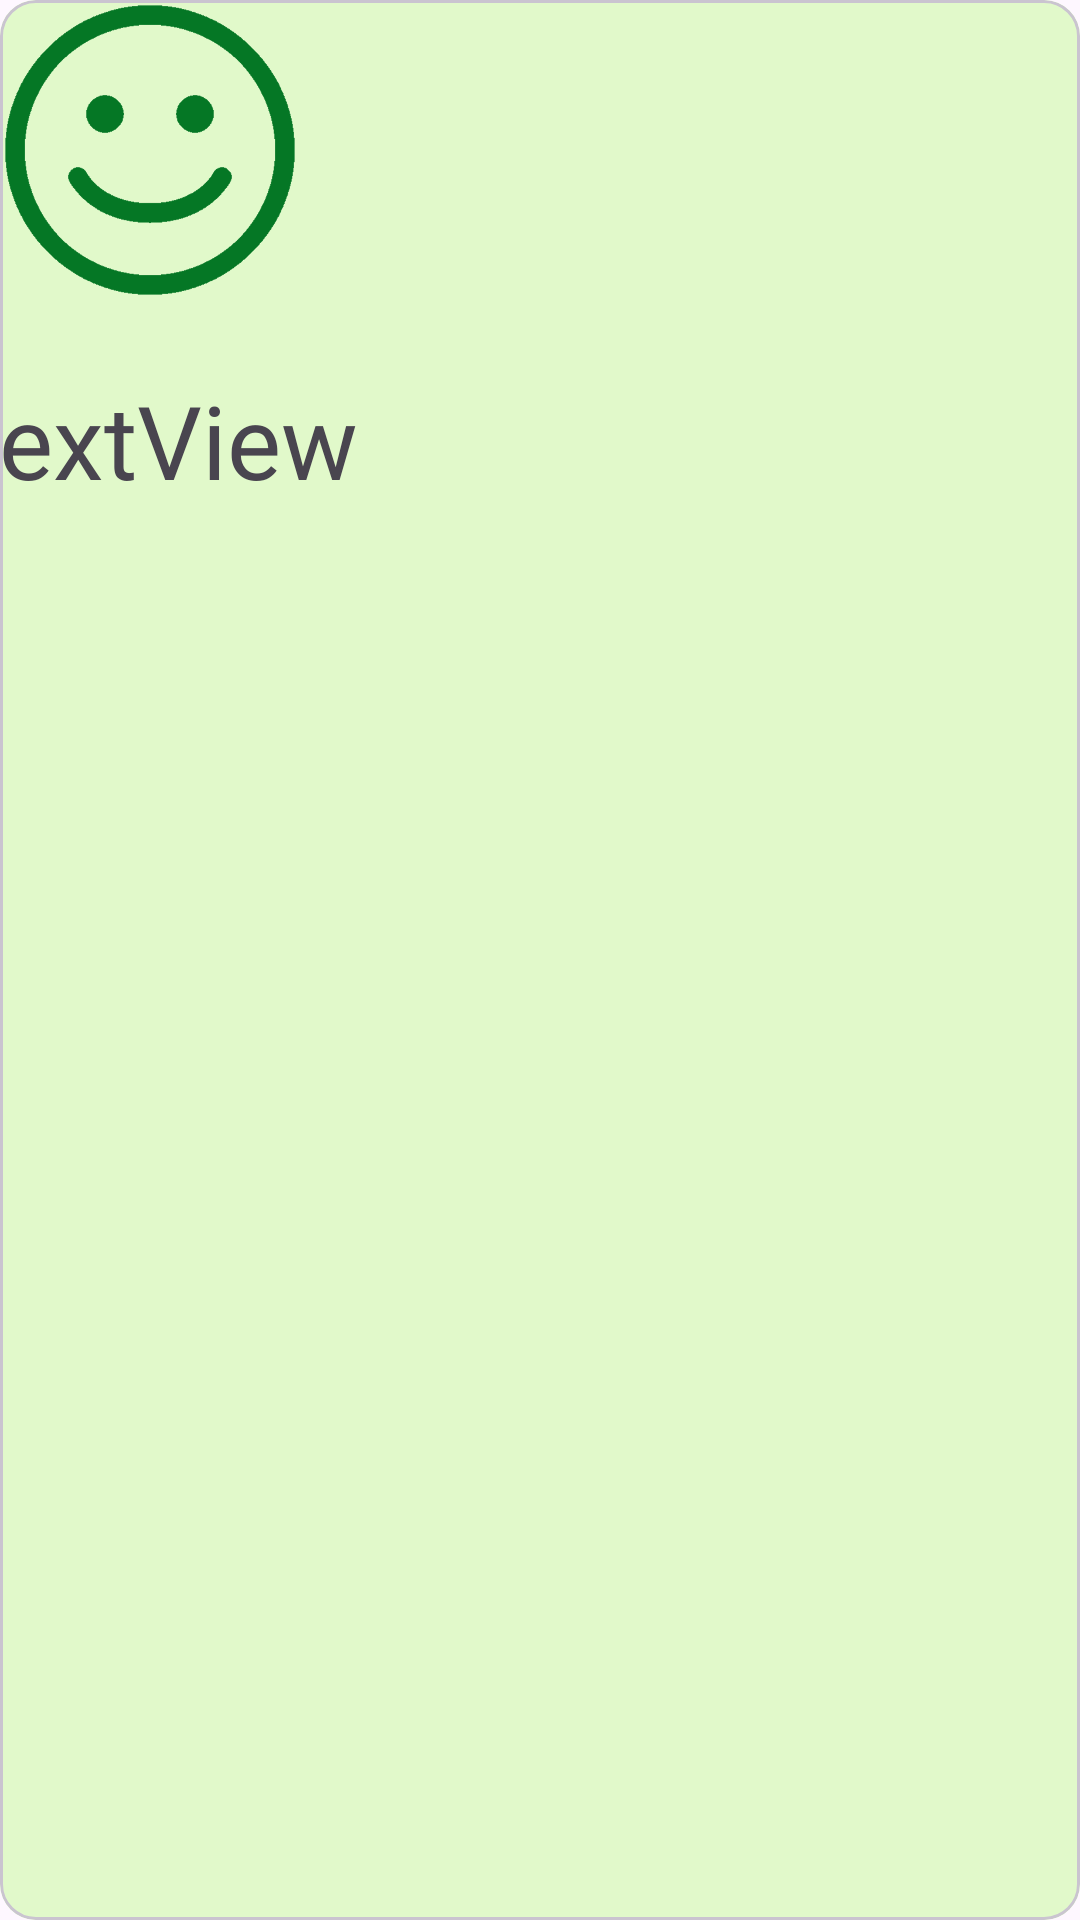

Locate icon controls on the screen. Image size 1080px x 1920px, boxes as [x1,y1,x2,y2].
feliz: [5,5,295,295]
